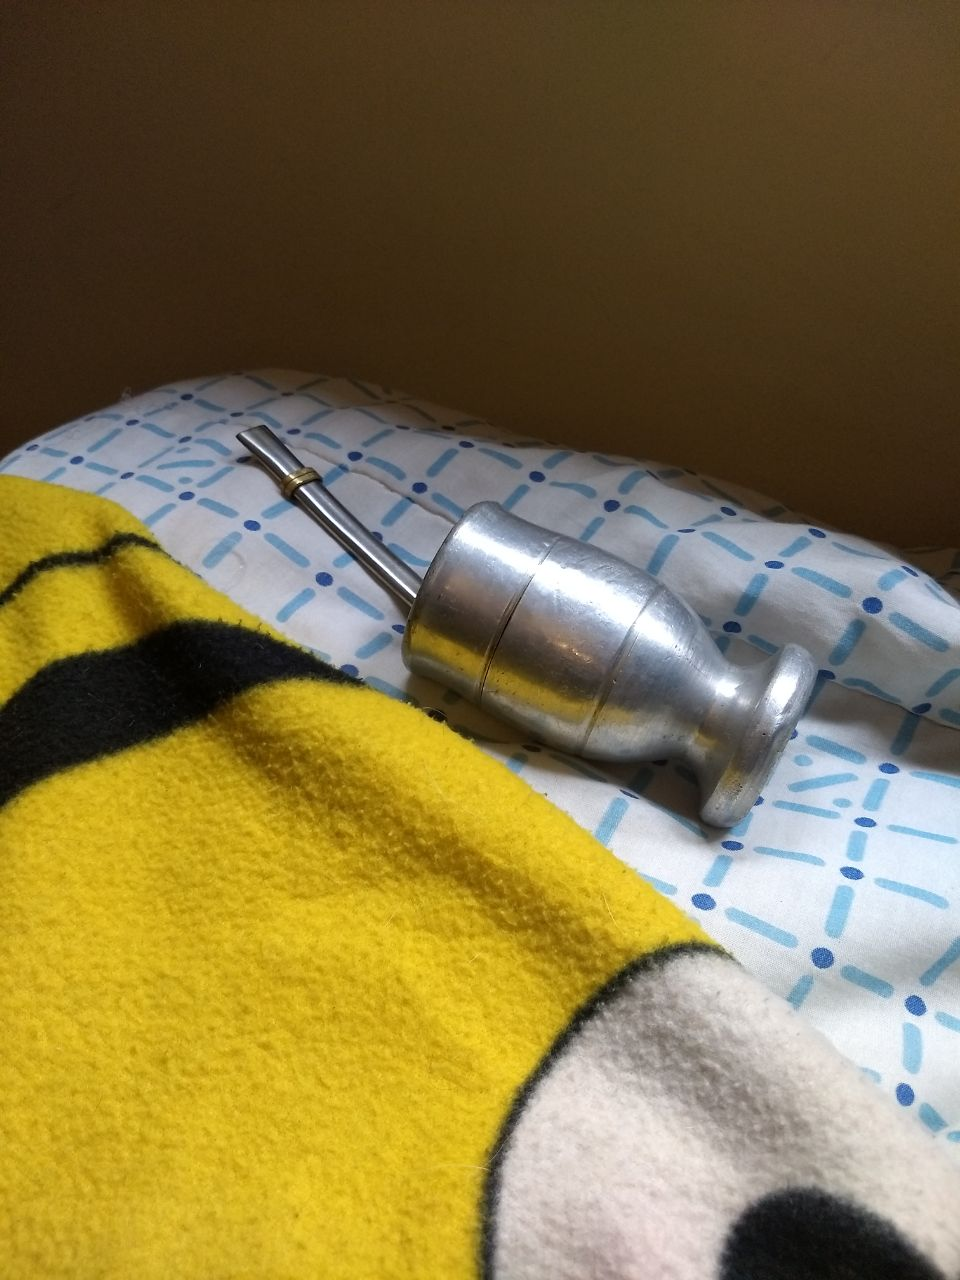mate: (233, 423, 820, 843)
metal: (231, 421, 818, 841)
